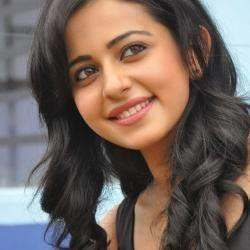No Mask: (26, 1, 250, 250)
